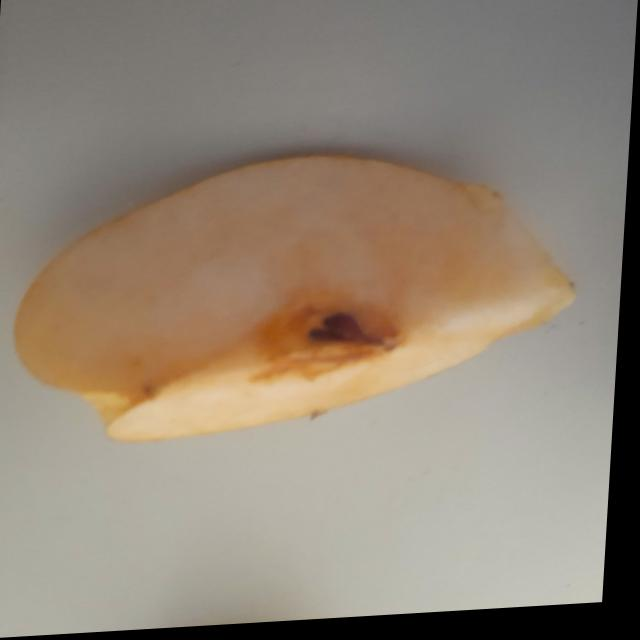Le: (12, 144, 595, 463)
